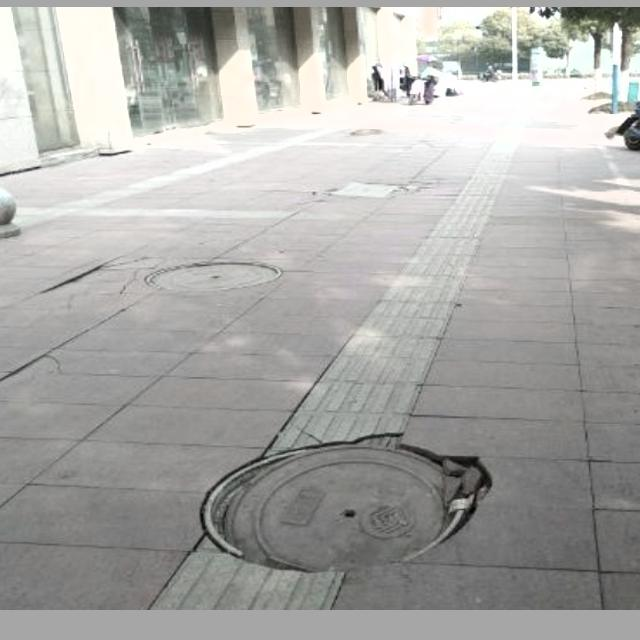good: (144, 261, 281, 288)
uncovered: (201, 443, 483, 574)
